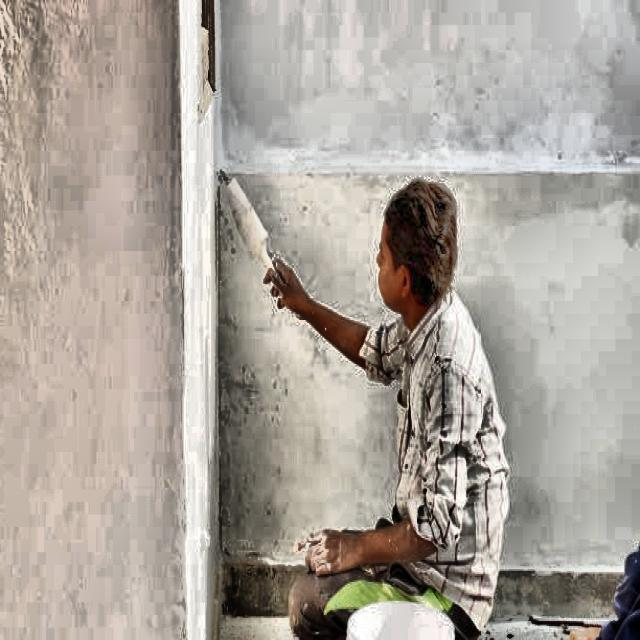Human: (257, 147, 510, 640)
